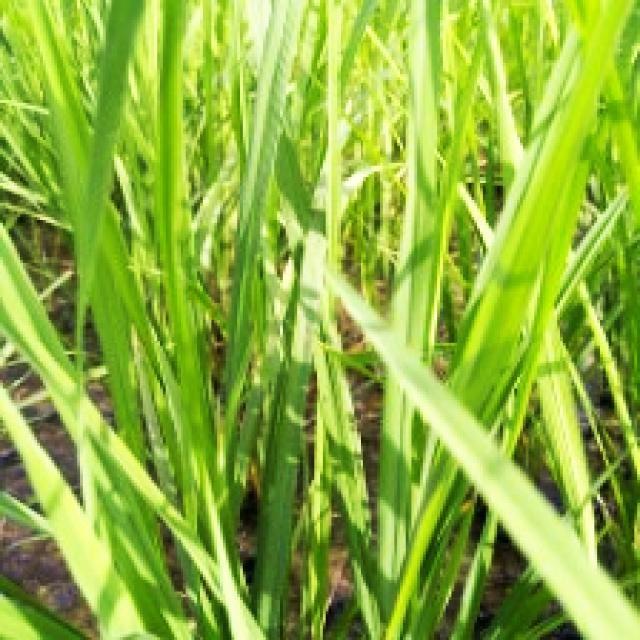health: (0, 0, 640, 263)
